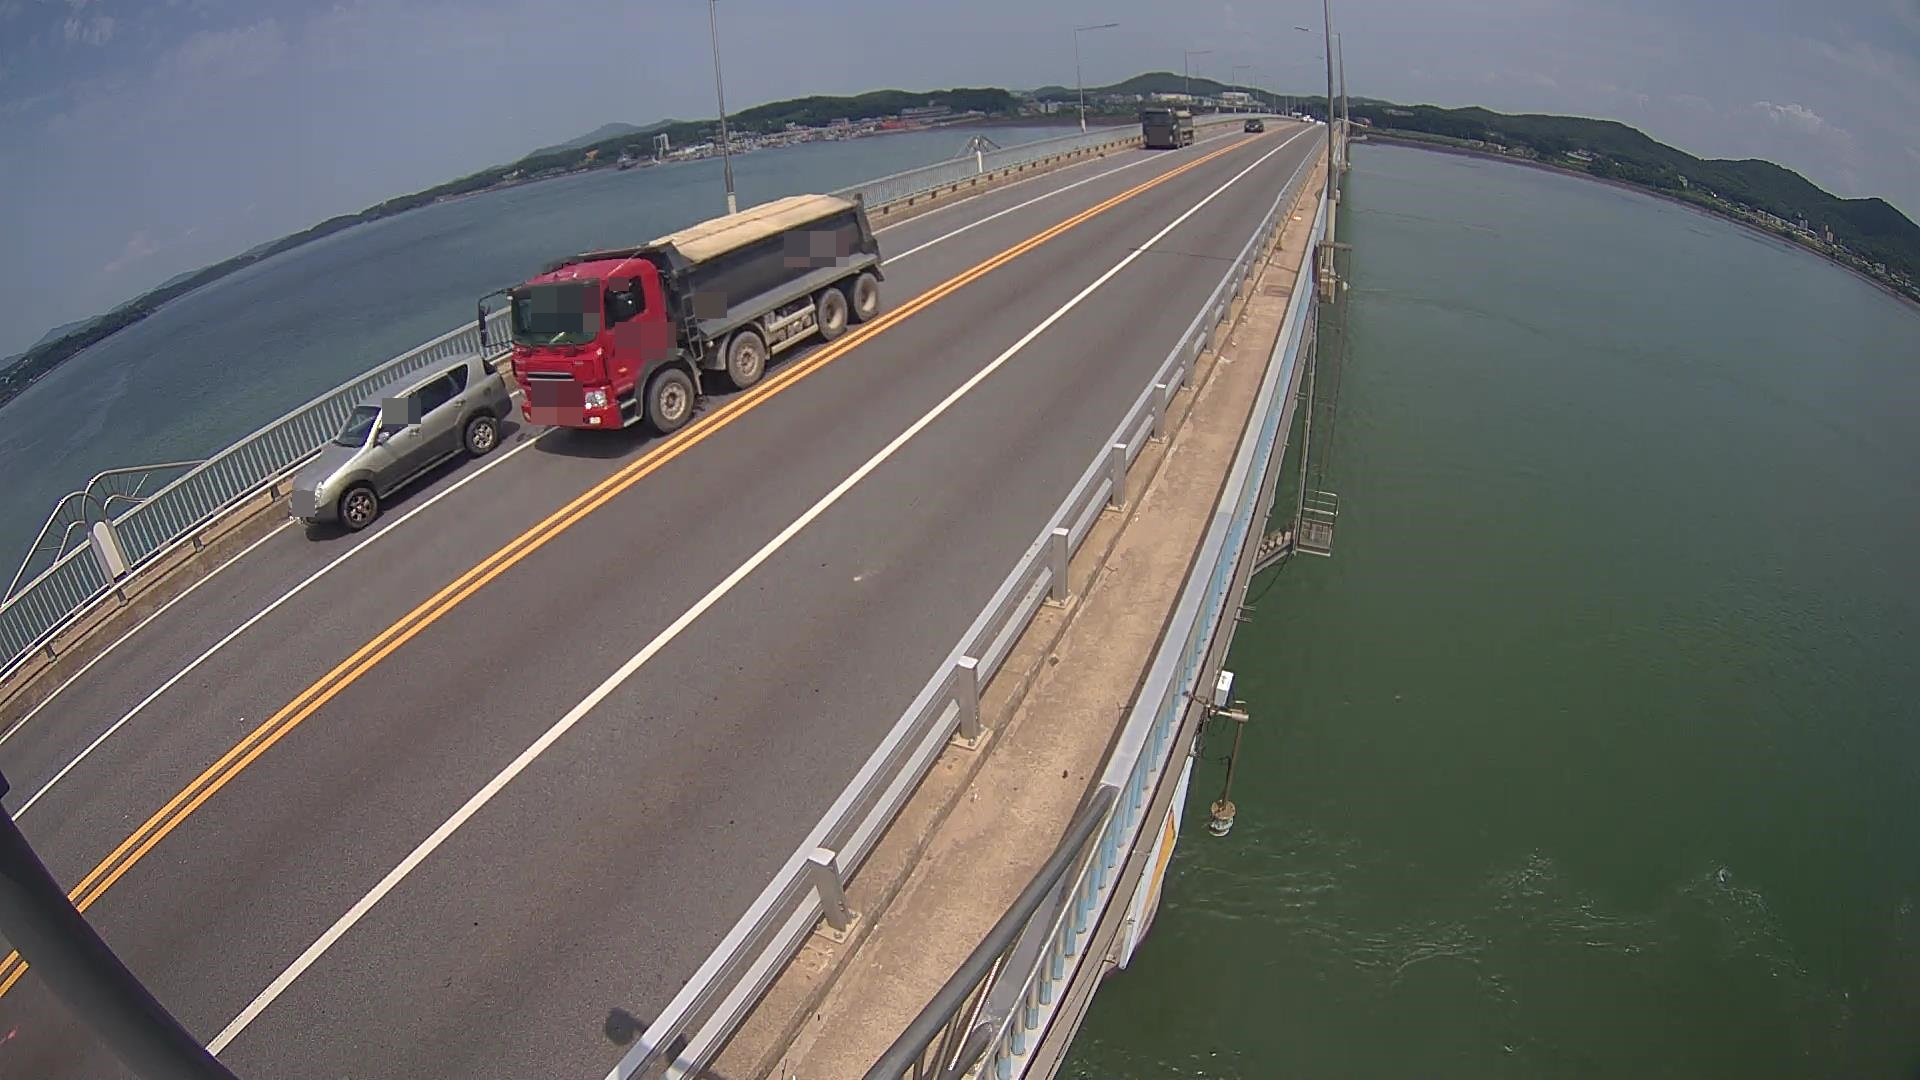정상차량: (478, 192, 886, 432)
